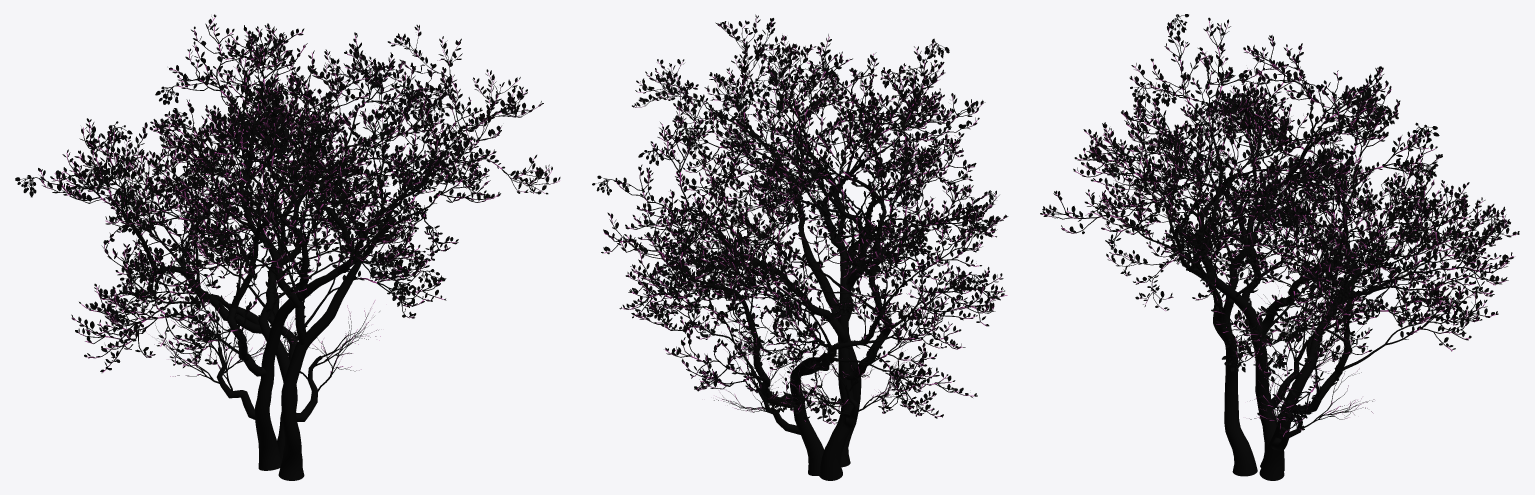
Rendered from 3DTree_Arctostaphylos manzanita_08.FBX.
The picture shows the model from 3 angles, left to right: view 1: azimuth 30°, elevation 25°; view 2: azimuth 150°, elevation 25°; view 3: azimuth 270°, elevation 25°; orthographic projection. The views are drawn at different scales.
Visible parts, largest first — view 1: 3DTree_Arctostaphylos manzanita_08; view 2: 3DTree_Arctostaphylos manzanita_08; view 3: 3DTree_Arctostaphylos manzanita_08.
Part boxes in pixels (bbox=[...]): 3DTree_Arctostaphylos manzanita_08: bbox=[15, 14, 560, 480]; 3DTree_Arctostaphylos manzanita_08: bbox=[592, 14, 1008, 480]; 3DTree_Arctostaphylos manzanita_08: bbox=[1040, 14, 1519, 480].
Bounding box in the file's own units: 346 × 364 × 367.
